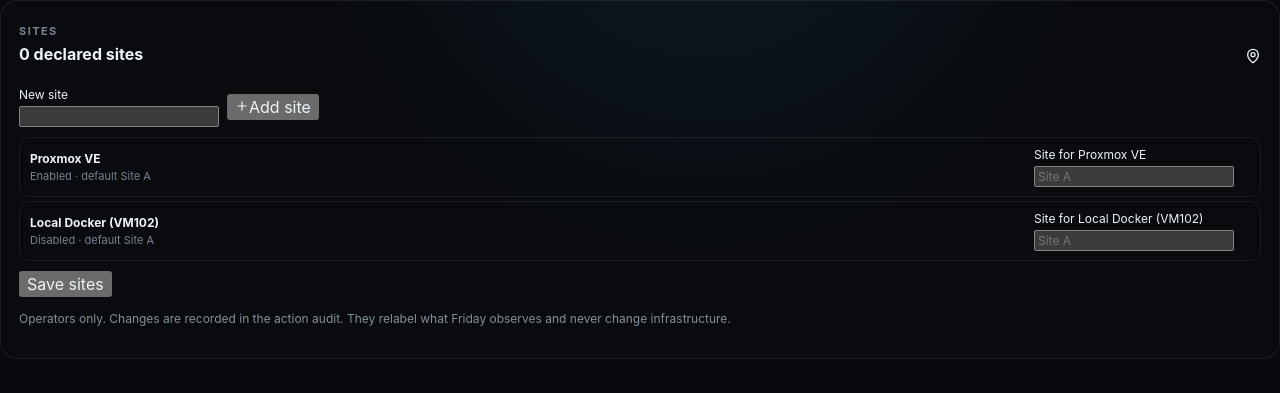
Test: SiteSettingsPanel › explains when operator access is required
Click the button "Save sites" at (65, 284), box [19,271,112,297]
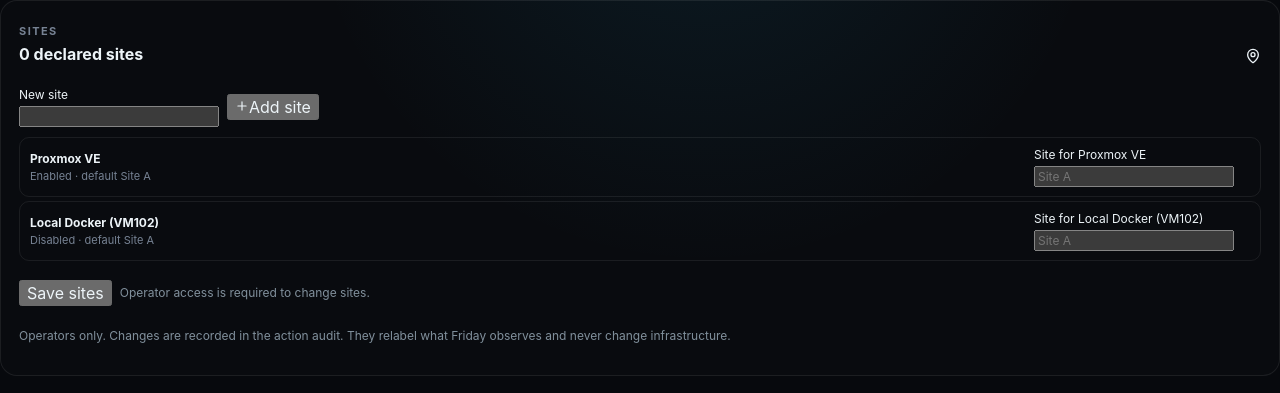
Result: the text "Operator access is required to change sites." is shown at [120,283,370,302]
